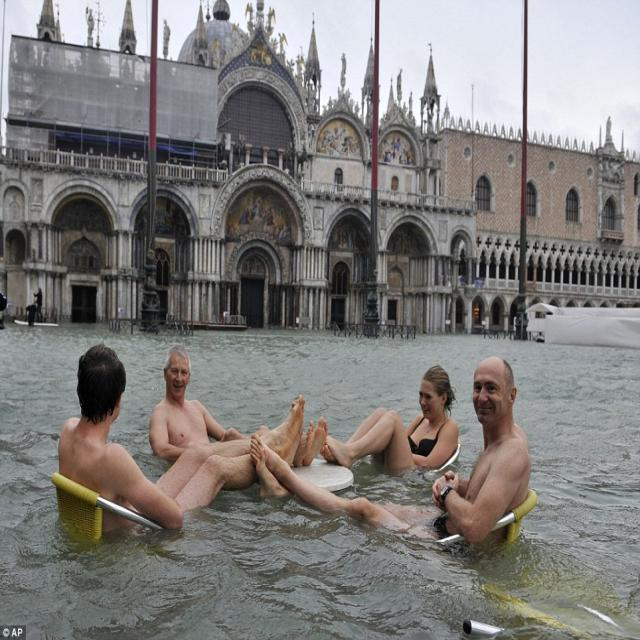body: (247, 354, 534, 552), (56, 342, 306, 536), (147, 342, 330, 473), (322, 363, 459, 479), (318, 49, 440, 176), (205, 1, 315, 104), (602, 112, 639, 244), (236, 200, 284, 234), (333, 224, 361, 249), (82, 5, 96, 50), (0, 287, 11, 333), (33, 286, 45, 326), (162, 18, 174, 58), (24, 299, 38, 329)
